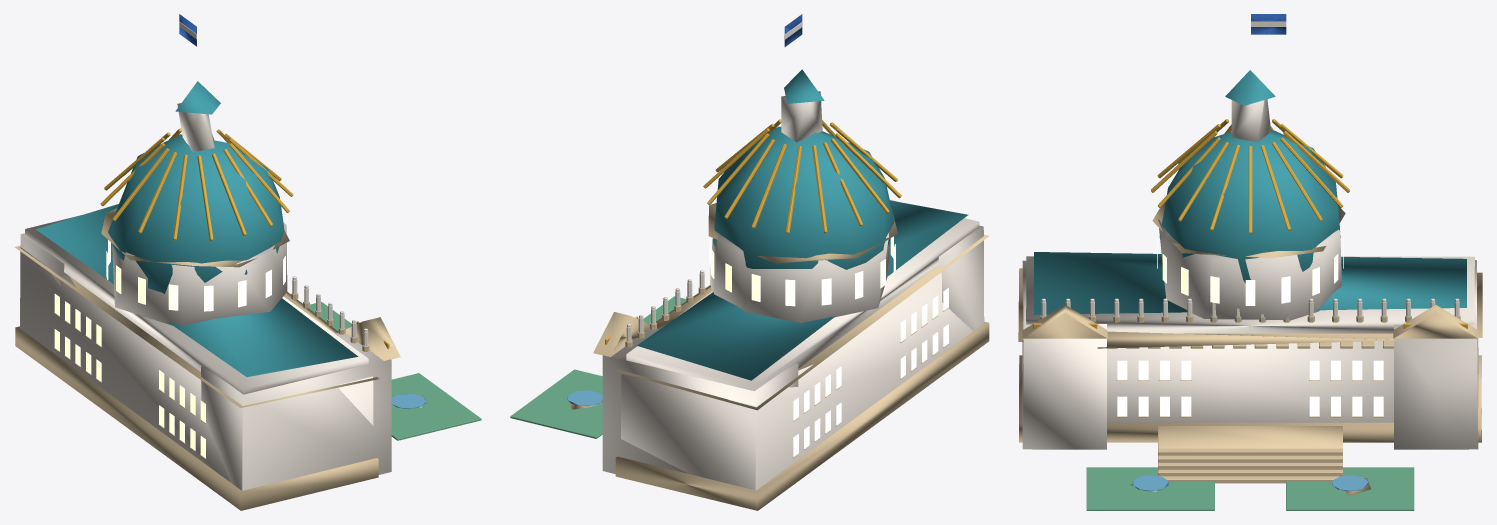
Rendered from parliament.glb.
3 views of the same model, side by side, from view 1: azimuth 30°, elevation 25°; view 2: azimuth 150°, elevation 25°; view 3: azimuth 270°, elevation 25° (orthographic). The views are drawn at different scales.
Visible parts, largest first — view 1: parliament; view 2: parliament; view 3: parliament.
Part boxes in pixels (left/top/right/bottom): parliament: left=14, top=14, right=481, bottom=510; parliament: left=510, top=14, right=989, bottom=510; parliament: left=1018, top=14, right=1482, bottom=510.
Size of the model in its own units: 47.98 by 61.1 by 65.12.
1 material, 1 textured.
